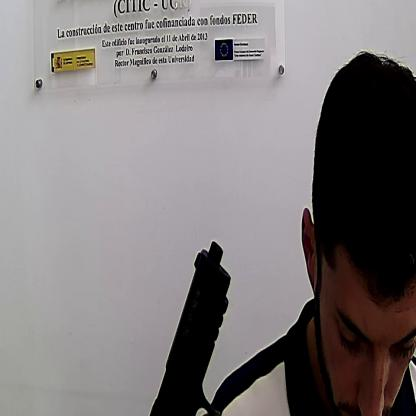gun: (124, 238, 244, 415)
